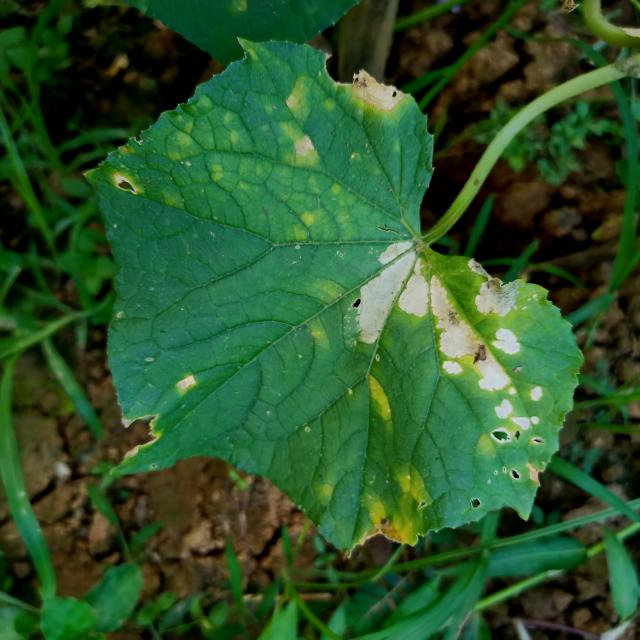disease_cucumber: (353, 236, 570, 485), (260, 82, 332, 186), (346, 458, 431, 540), (357, 370, 399, 434)
